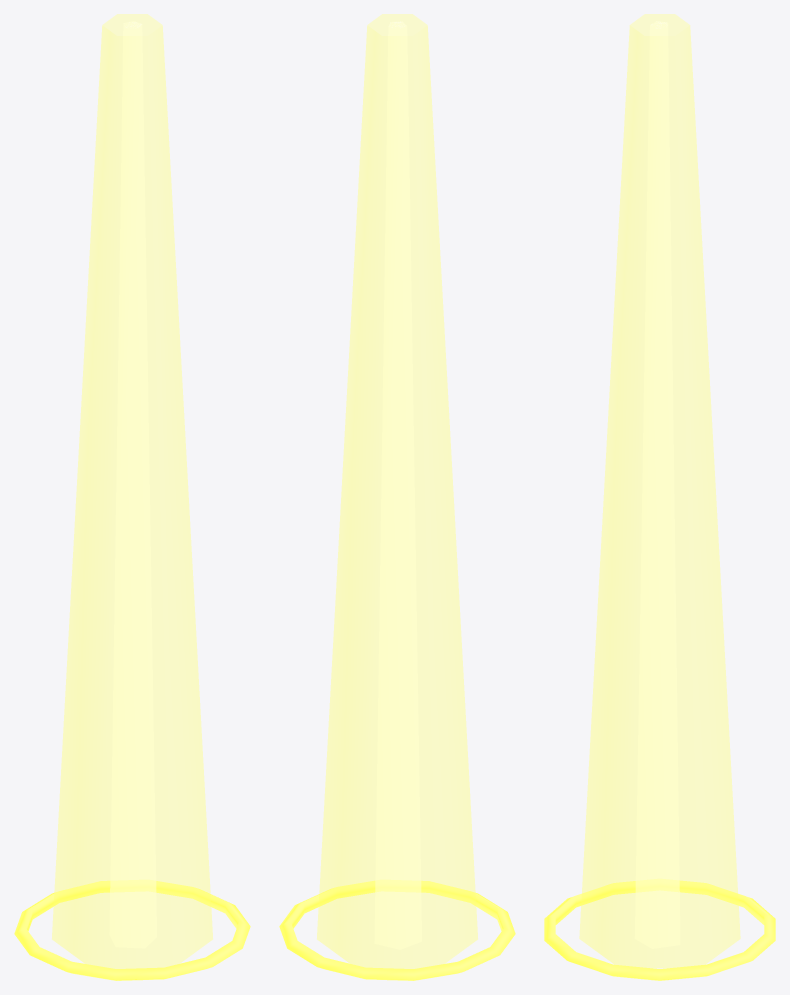
Rendered from fx_loot_beam_rare.glb.
The picture shows the model from 3 angles, left to right: view 1: azimuth 30°, elevation 25°; view 2: azimuth 150°, elevation 25°; view 3: azimuth 270°, elevation 25°; orthographic projection.
Parts seen in each view (by area): view 1: beam_lootBeam, beam_lootCore, ring_lootRing; view 2: beam_lootBeam, beam_lootCore, ring_lootRing; view 3: beam_lootBeam, beam_lootCore, ring_lootRing.
Part boxes in pixels (<box>): beam_lootBeam: <box>52,14,212,968</box>; beam_lootCore: <box>109,21,156,948</box>; ring_lootRing: <box>14,880,250,980</box>; beam_lootBeam: <box>317,14,477,968</box>; beam_lootCore: <box>374,21,421,949</box>; ring_lootRing: <box>279,880,515,980</box>; beam_lootBeam: <box>579,14,740,967</box>; beam_lootCore: <box>635,21,679,948</box>; ring_lootRing: <box>544,879,775,980</box>.
Bounding box in the file's own units: 0.47 × 2 × 0.4582.
